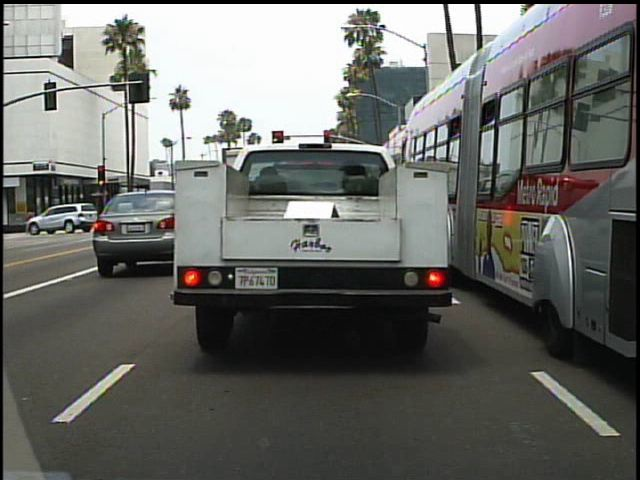person: (26, 208, 35, 237)
